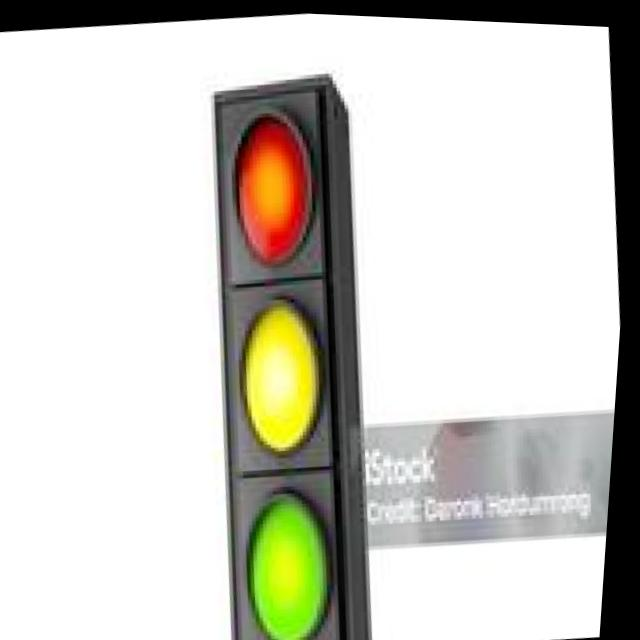green_light: (157, 452, 423, 640)
red_light: (169, 60, 408, 308)
yellow_light: (149, 278, 414, 499)
